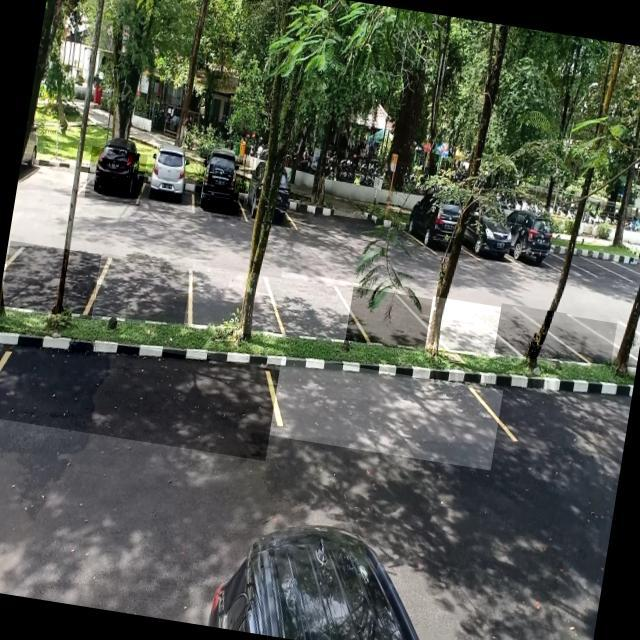empty: (0, 326, 279, 461), (270, 356, 503, 470), (1, 240, 102, 320), (93, 253, 195, 330), (184, 265, 282, 338), (272, 272, 360, 344), (346, 287, 434, 353), (425, 296, 503, 359), (494, 304, 568, 364), (23, 146, 91, 200), (554, 314, 618, 366)
occupied: (191, 154, 250, 222), (84, 146, 148, 206), (139, 153, 200, 214)
